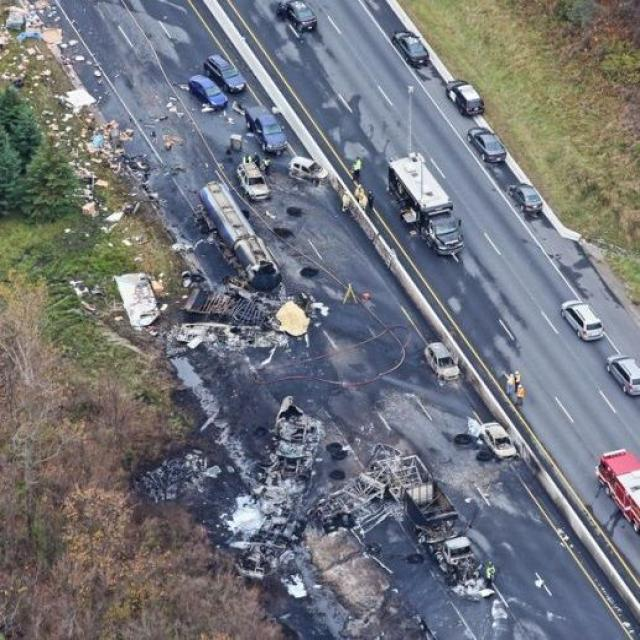traffic_incident: (201, 382, 510, 618), (136, 129, 324, 370)
